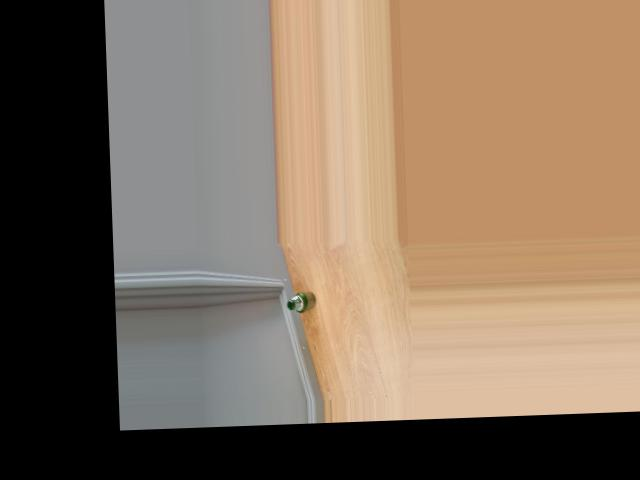beer: (287, 291, 316, 312)
